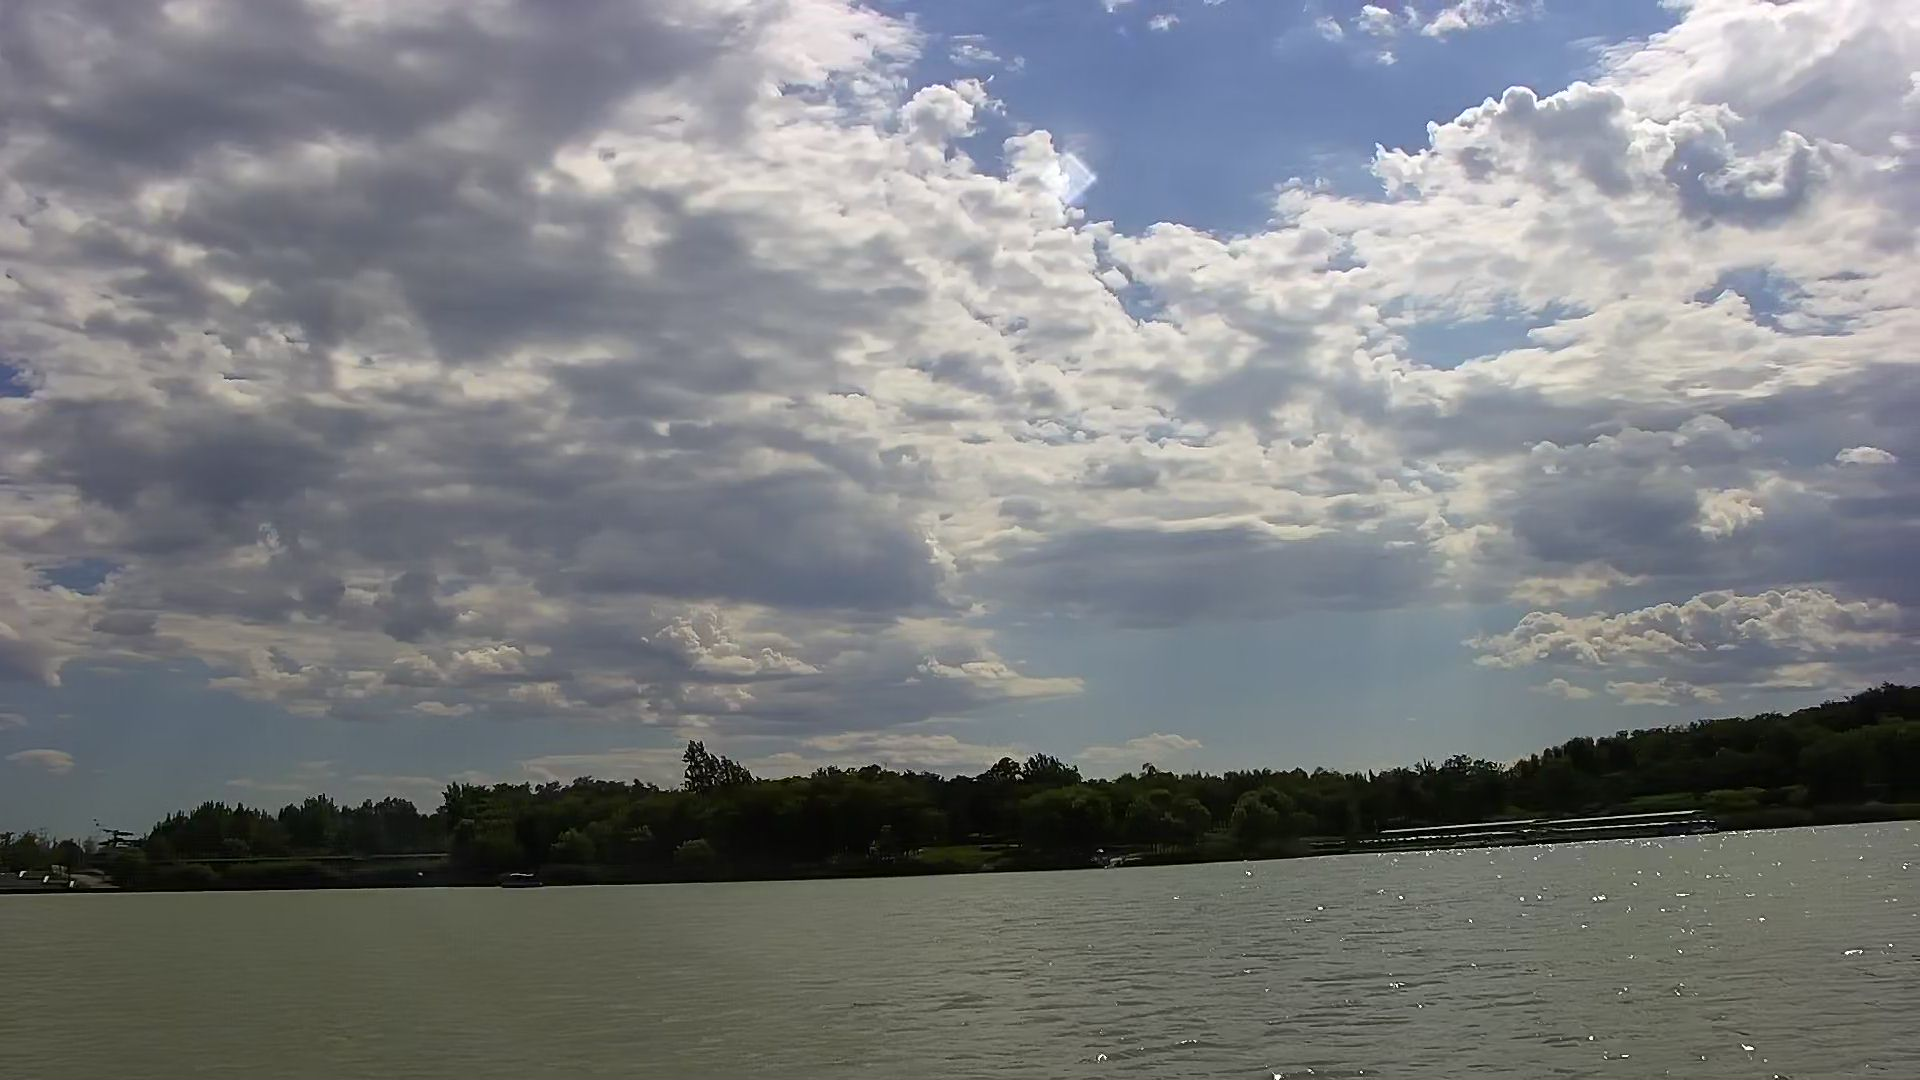harbor: (1377, 811, 1734, 843)
